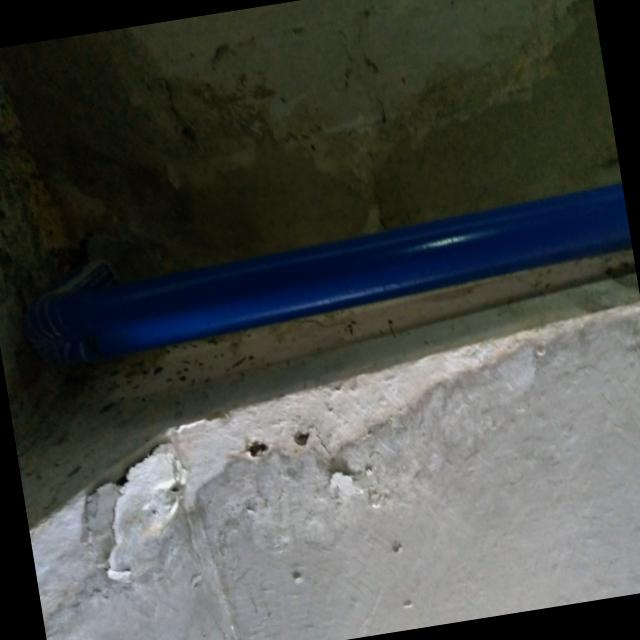gas: (43, 181, 632, 363)
